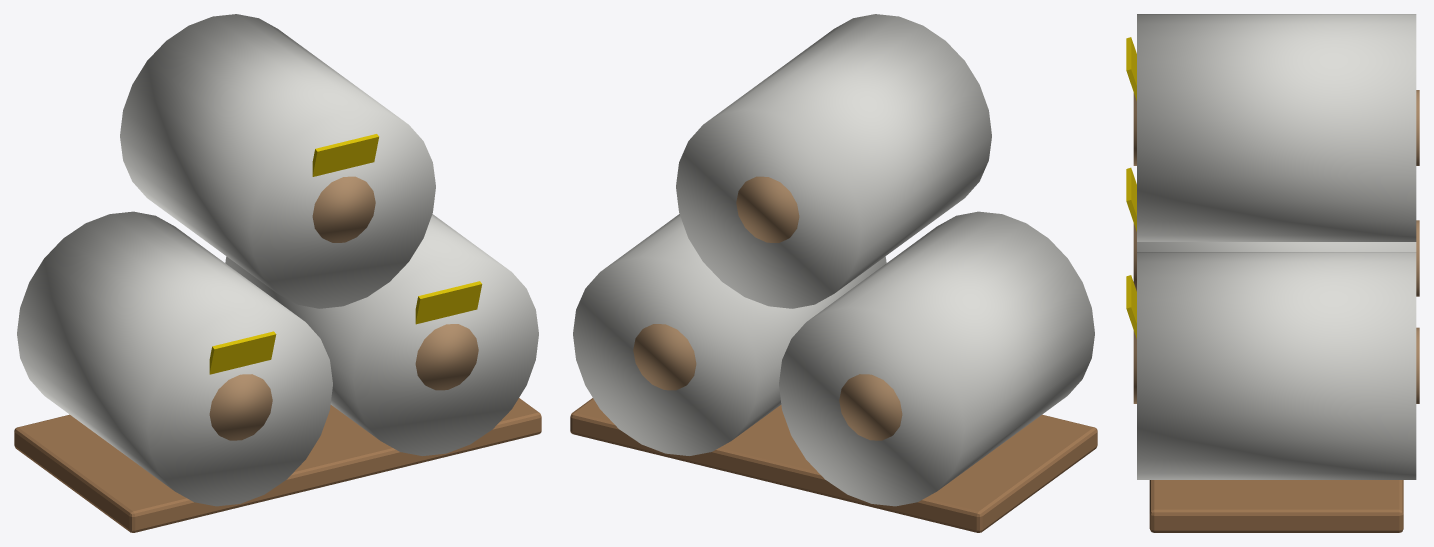
Rendered from m_paperroll.glb.
3 renders of one model, left to right at view 1: azimuth 30°, elevation 25°; view 2: azimuth 150°, elevation 25°; view 3: azimuth 270°, elevation 25°, orthographic. The views are drawn at different scales.
Parts seen in each view (by area): view 1: m_paperroll; view 2: m_paperroll; view 3: m_paperroll.
Part boxes in pixels (bbox=[...]): m_paperroll: bbox=[14, 14, 541, 532]; m_paperroll: bbox=[570, 14, 1097, 532]; m_paperroll: bbox=[1126, 14, 1419, 532].
Size of the model in its own units: 0.4 by 0.35 by 0.2308.
